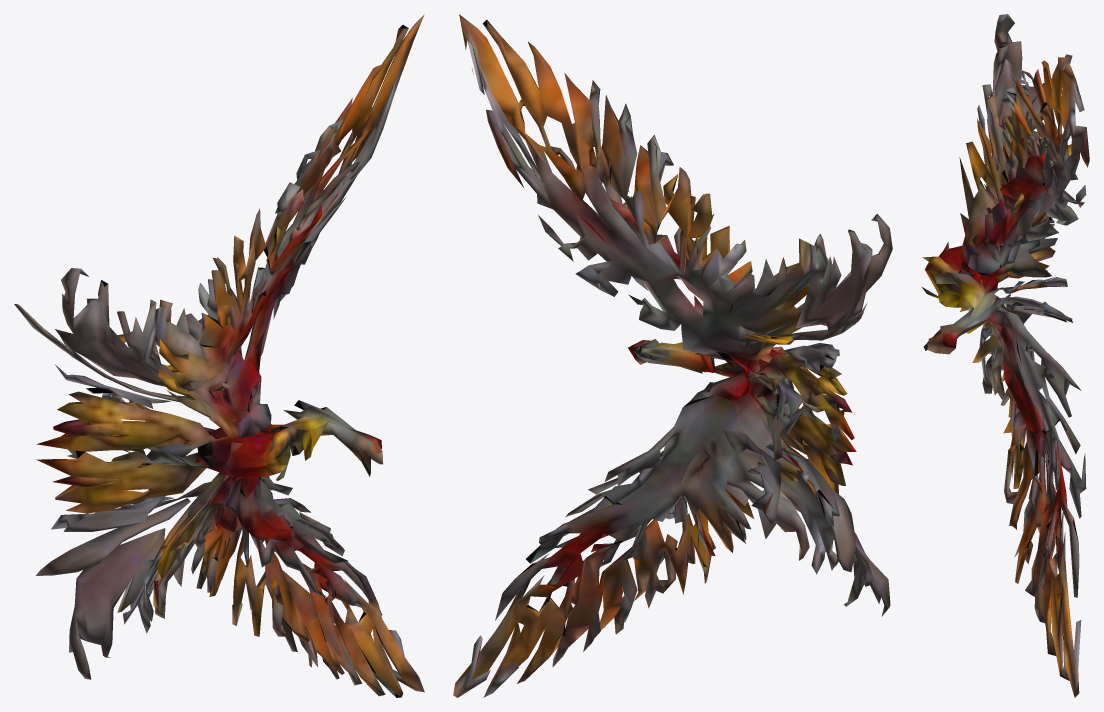
Rendered from back_prp_ailes_phenix.glb.
3 renders of one model, left to right at view 1: azimuth 30°, elevation 25°; view 2: azimuth 150°, elevation 25°; view 3: azimuth 270°, elevation 25°, orthographic. The views are drawn at different scales.
Visible parts, largest first — view 1: AileG, AileD; view 2: AileD, AileG; view 3: AileG, AileD.
Boxes of the visible parts, x1,y1,x2,y2 form: AileG: (36,422,424,697); AileD: (14,14,424,467); AileD: (459,14,892,439); AileG: (453,339,890,697); AileG: (922,214,1086,697); AileD: (922,14,1089,328).
Bounding box in the file's own units: 1.45 × 2.3 × 0.5544.
1 material, 1 textured.
